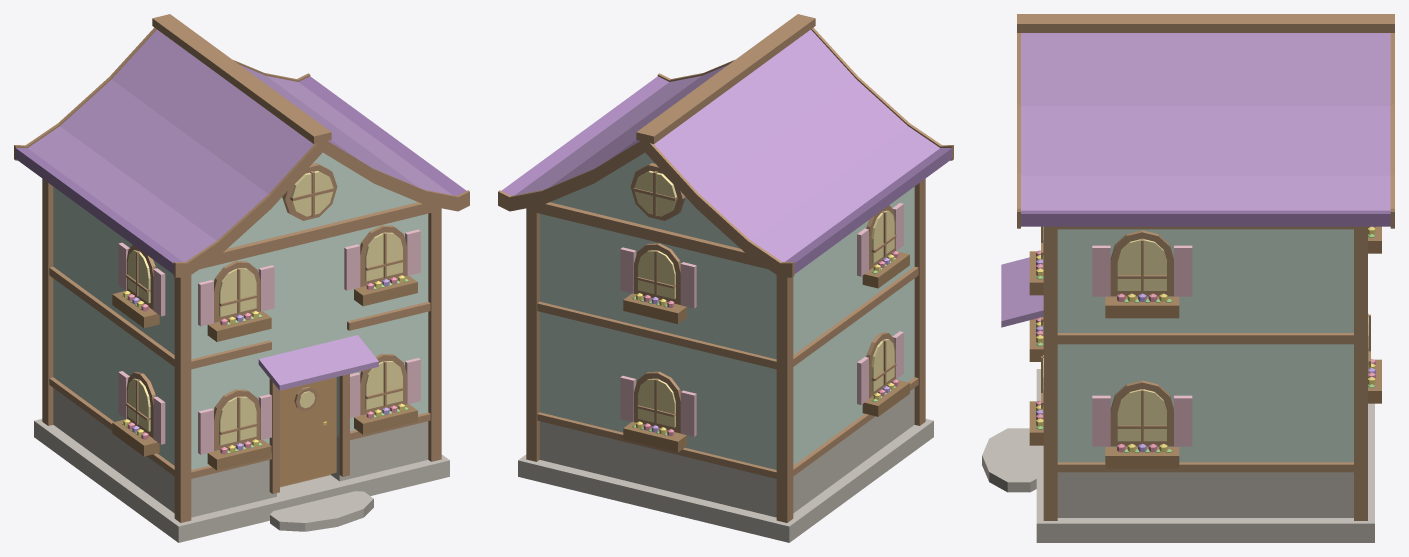
Rendered from townhouse_mint.glb.
The picture shows the model from 3 angles, left to right: view 1: azimuth 30°, elevation 25°; view 2: azimuth 150°, elevation 25°; view 3: azimuth 270°, elevation 25°; orthographic projection. The views are drawn at different scales.
Visible parts, largest first — view 1: Player; view 2: Player; view 3: Player.
Boxes of the visible parts, x1,y1,x2,y2 form: Player: (14,14,469,542); Player: (498,14,953,542); Player: (982,14,1394,542).
Bounding box in the file's own units: 5.64 × 6.99 × 5.85.
